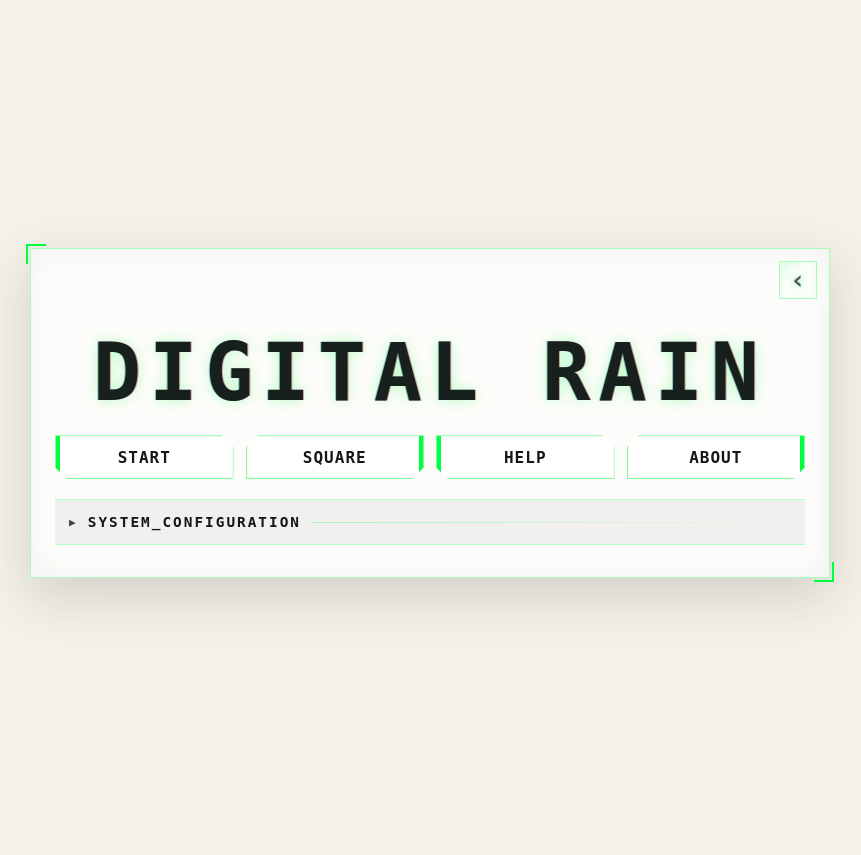
Scenario: SettingsMenu › renders RAIN_DENSITY input
Click the text "SYSTEM_CONFIGURATION" at (194, 522), box [88,514,301,530]
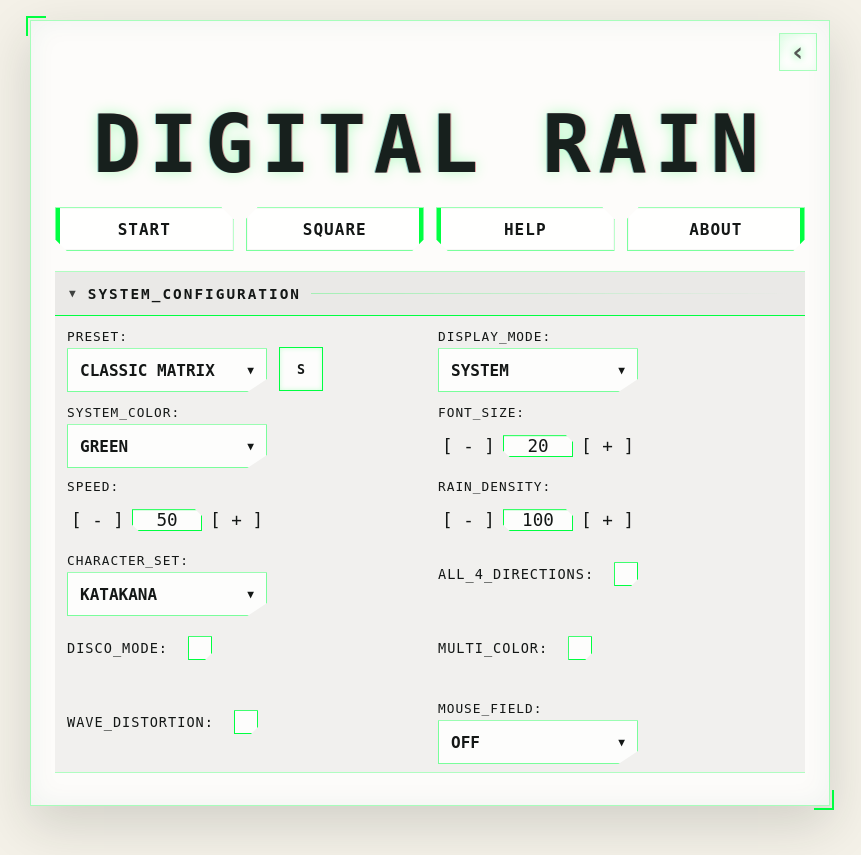
Now the number field labelled "RAIN_DENSITY:" is shown, box [503,509,573,531]
